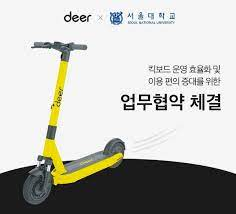kick_handler: (30, 41, 87, 57)
kick_neck: (43, 62, 65, 146)
kick_wheel: (22, 167, 53, 204), (105, 138, 123, 167)
